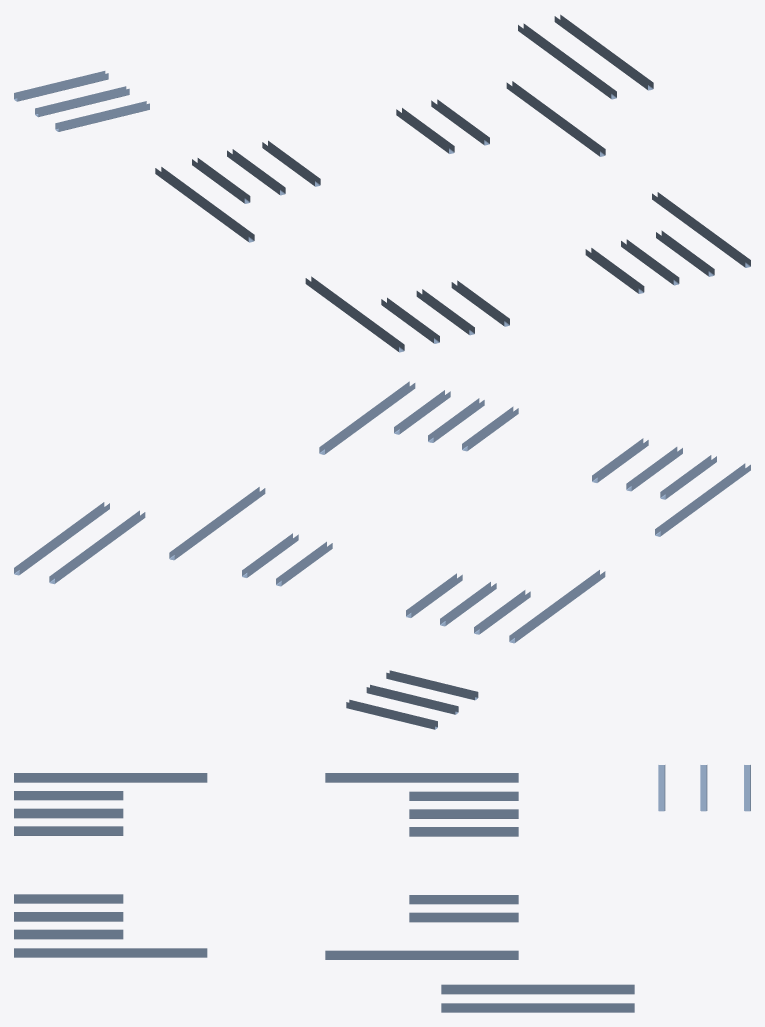
Rendered from SM_floor1_beams.fbx.
3 renders of one model, top to bottom at view 1: azimuth 30°, elevation 25°; view 2: azimuth 150°, elevation 25°; view 3: azimuth 270°, elevation 25°, orthographic. The views are drawn at different scales.
Visible parts, largest first — view 1: pCube537, pCube538, pCube545, pCube541; view 2: pCube537, pCube538, pCube545, pCube541; view 3: pCube537, pCube538, pCube541, pCube545.
Boxes of the visible parts, x1,y1,x2,y2 form: pCube537: (305,192,750,352); pCube538: (155,81,605,242); pCube545: (14,71,149,131); pCube541: (518,14,653,99); pCube537: (319,381,750,536); pCube538: (169,487,605,643); pCube545: (346,670,478,729); pCube541: (14,502,145,584); pCube537: (14,773,207,957); pCube538: (325,773,518,959); pCube541: (441,984,634,1012); pCube545: (658,765,750,811).
Bounding box in the file's own units: 3487 × 45.52 × 4381.
